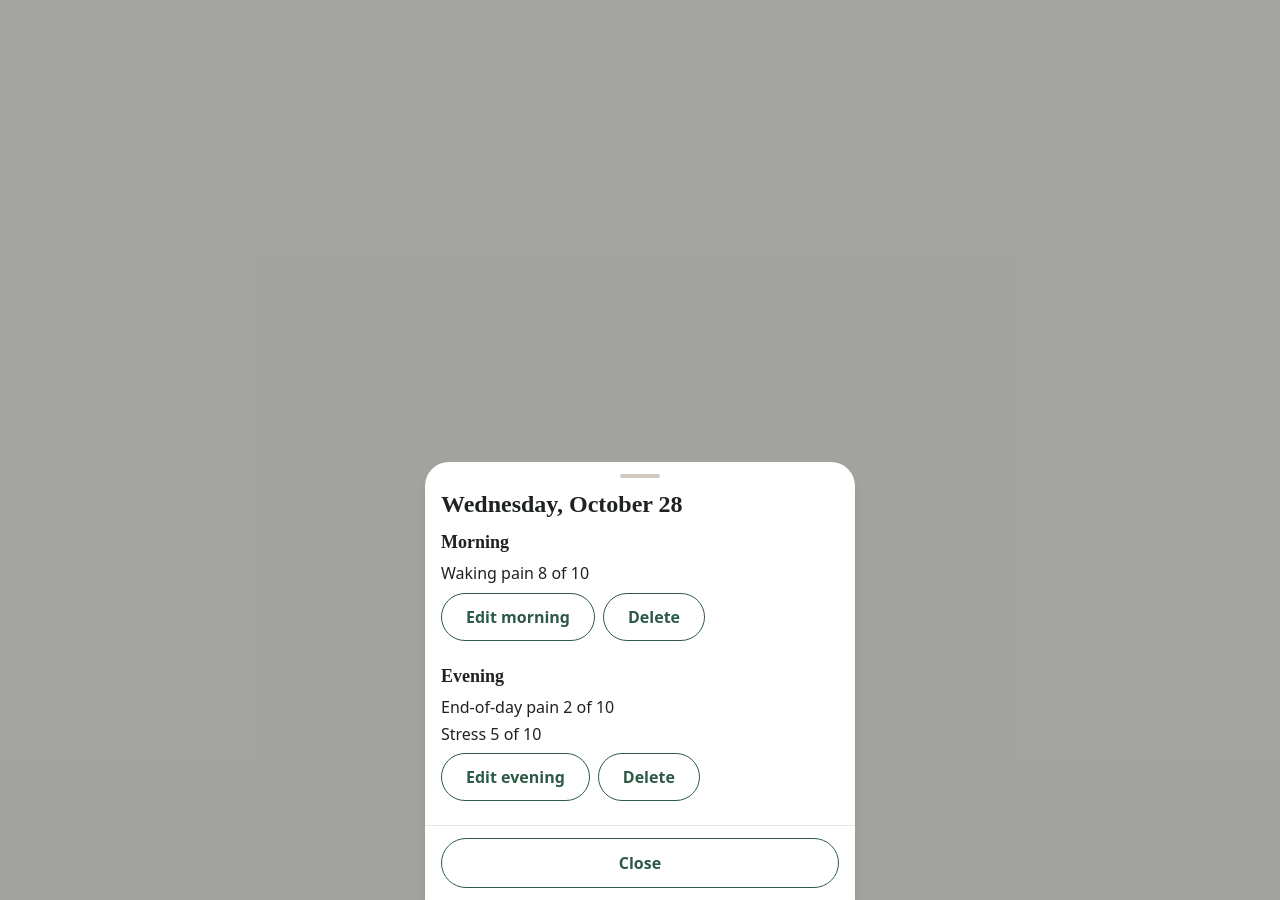
Test case: DayDetailSheet › asks before deleting and keeps the entry when cancelled
The width and height of the screenshot is (1280, 900).
Click the button with aria-label "Delete morning entry".
click(654, 617)  # box [603,593,705,641]
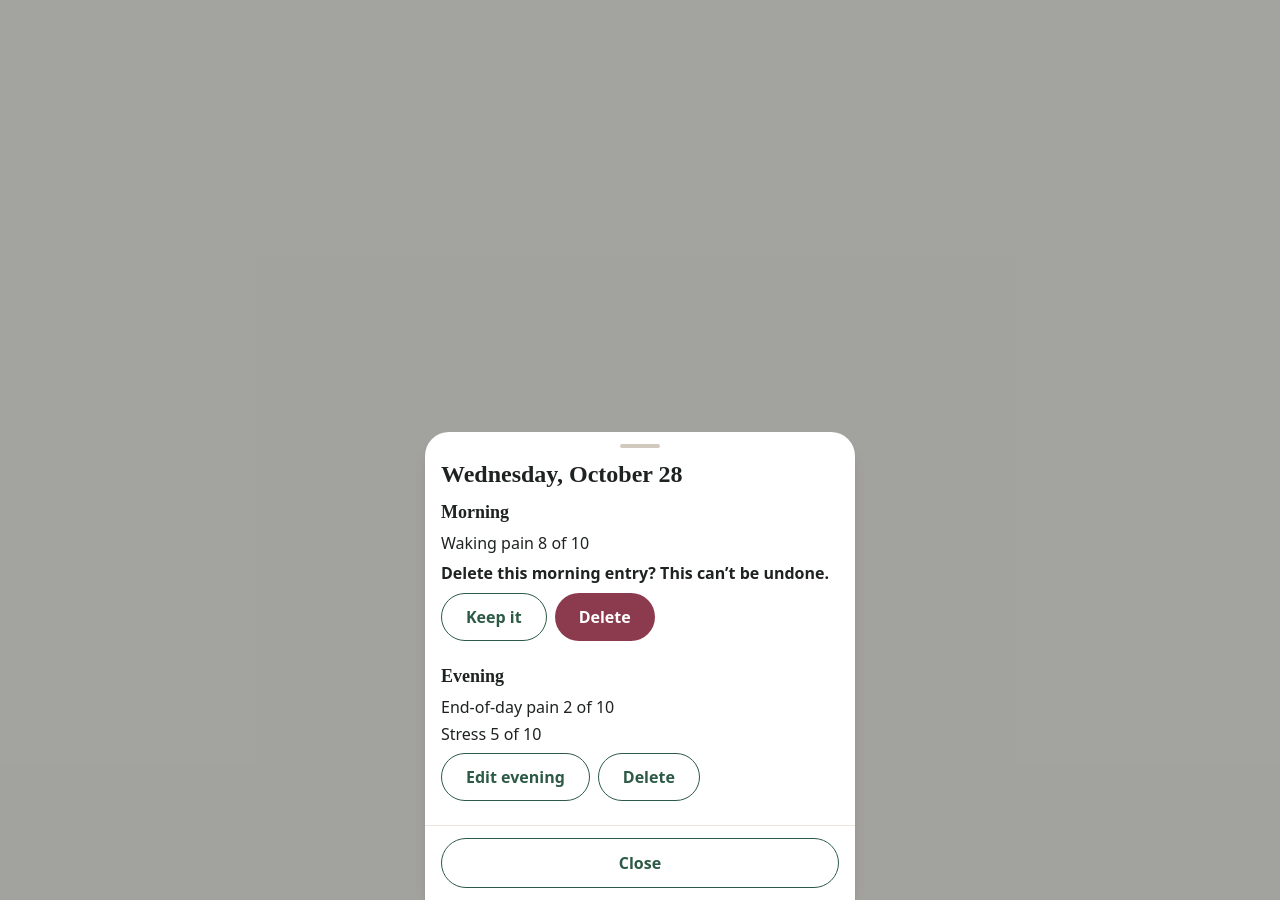
Expected: the text "Delete this morning entry? This can’t be undone." is shown, [441,562,839,585]
Click the button "Keep it".
click(494, 617)  # box [441,593,547,641]
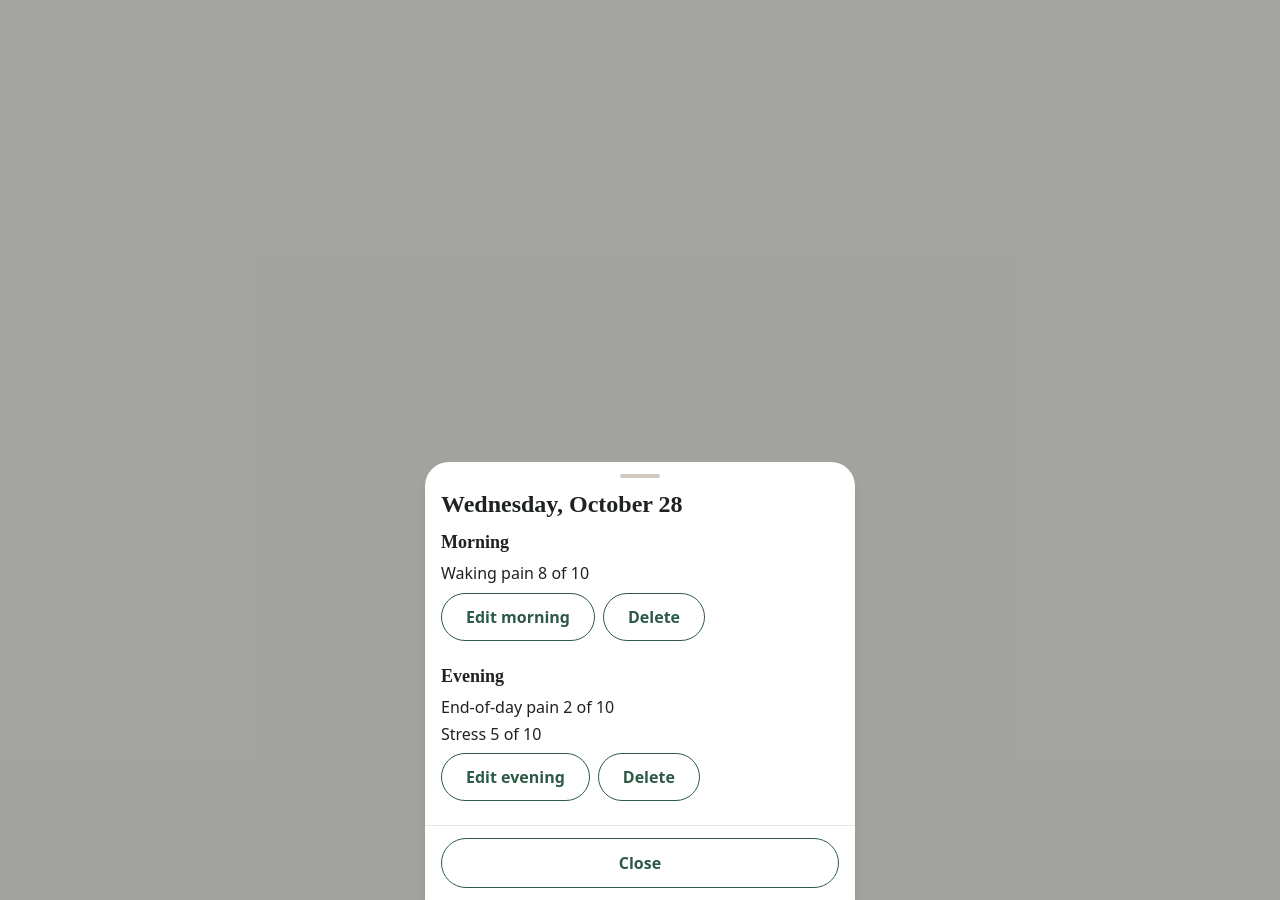
Expected: the text "Delete this morning entry?" is gone
